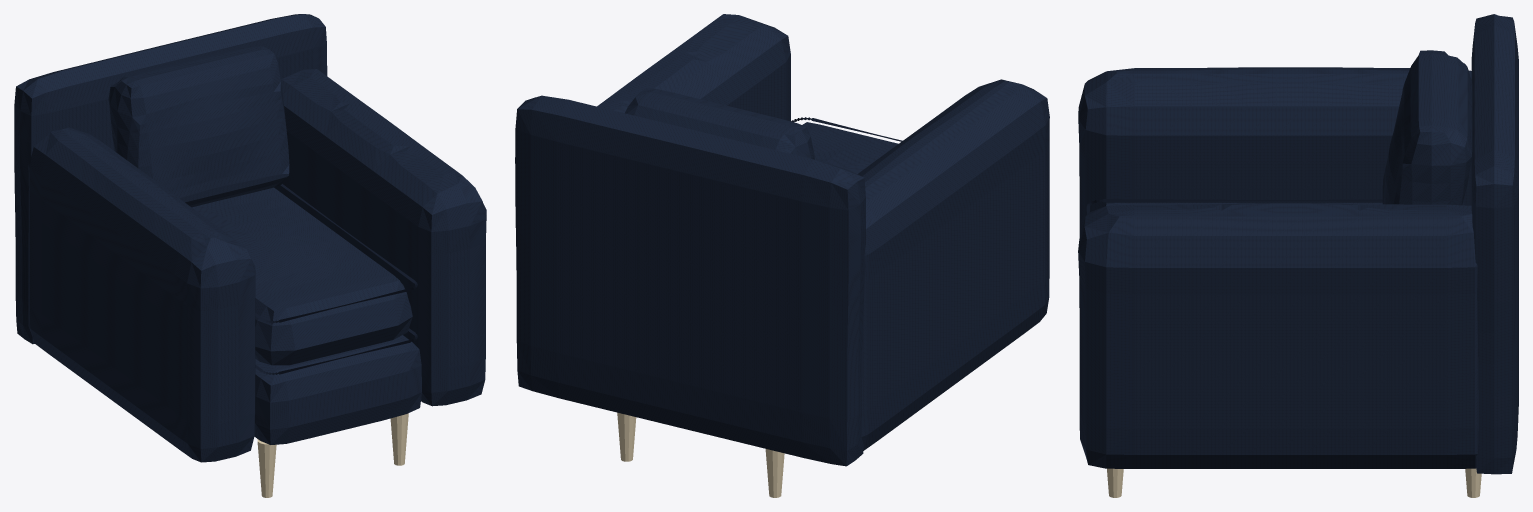
The model's file is LIT-LNG-std.glb.
3 views of the same model, side by side, from view 1: azimuth 30°, elevation 25°; view 2: azimuth 150°, elevation 25°; view 3: azimuth 270°, elevation 25° (orthographic). The views are drawn at different scales.
Visible parts, largest first — view 1: arm-pad-l:fabric:eyJwcmVzZXQiOiJ0aWNraW5nIiwid2FycCI6Im5hdnk, arm-pad-r:fabric:eyJwcmVzZXQiOiJ0aWNraW5nIiwid2FycCI6Im5hdnk, inside-back:fabric:eyJwcmVzZXQiOiJ0aWNraW5nIiwid2FycCI6Im5hd, seat:fabric:eyJwcmVzZXQiOiJ0aWNraW5nIiwid2FycCI6Im5hdnkiLCJ3, back-pad:fabric:eyJwcmVzZXQiOiJ0aWNraW5nIiwid2FycCI6Im5hdnki, deck:fabric:eyJwcmVzZXQiOiJ0aWNraW5nIiwid2FycCI6Im5hdnkiLCJ3, seat:piping:pbr, leg-fl:pbr, leg-fr:pbr; view 2: back-pad:fabric:eyJwcmVzZXQiOiJ0aWNraW5nIiwid2FycCI6Im5hdnki, arm-pad-l:fabric:eyJwcmVzZXQiOiJ0aWNraW5nIiwid2FycCI6Im5hdnk, arm-pad-r:fabric:eyJwcmVzZXQiOiJ0aWNraW5nIiwid2FycCI6Im5hdnk, inside-back:fabric:eyJwcmVzZXQiOiJ0aWNraW5nIiwid2FycCI6Im5hd, seat:fabric:eyJwcmVzZXQiOiJ0aWNraW5nIiwid2FycCI6Im5hdnkiLCJ3, leg-br:pbr, leg-bl:pbr; view 3: arm-pad-r:fabric:eyJwcmVzZXQiOiJ0aWNraW5nIiwid2FycCI6Im5hdnk, arm-pad-l:fabric:eyJwcmVzZXQiOiJ0aWNraW5nIiwid2FycCI6Im5hdnk, back-pad:fabric:eyJwcmVzZXQiOiJ0aWNraW5nIiwid2FycCI6Im5hdnki, inside-back:fabric:eyJwcmVzZXQiOiJ0aWNraW5nIiwid2FycCI6Im5hd, seat:piping:pbr.
Part boxes in pixels (box(x1,y1,x2,y2)): arm-pad-l:fabric:eyJwcmVzZXQiOiJ0aWNraW5nIiwid2FycCI6Im5hdnk: box(28, 127, 255, 462); arm-pad-r:fabric:eyJwcmVzZXQiOiJ0aWNraW5nIiwid2FycCI6Im5hdnk: box(274, 69, 486, 406); inside-back:fabric:eyJwcmVzZXQiOiJ0aWNraW5nIiwid2FycCI6Im5hd: box(108, 45, 289, 207); seat:fabric:eyJwcmVzZXQiOiJ0aWNraW5nIiwid2FycCI6Im5hdnkiLCJ3: box(192, 187, 412, 365); back-pad:fabric:eyJwcmVzZXQiOiJ0aWNraW5nIiwid2FycCI6Im5hdnki: box(14, 14, 327, 344); deck:fabric:eyJwcmVzZXQiOiJ0aWNraW5nIiwid2FycCI6Im5hdnkiLCJ3: box(254, 335, 421, 444); seat:piping:pbr: box(255, 184, 417, 374); leg-fl:pbr: box(257, 439, 276, 497); leg-fr:pbr: box(390, 413, 408, 465); back-pad:fabric:eyJwcmVzZXQiOiJ0aWNraW5nIiwid2FycCI6Im5hdnki: box(515, 95, 865, 466); arm-pad-l:fabric:eyJwcmVzZXQiOiJ0aWNraW5nIiwid2FycCI6Im5hdnk: box(857, 79, 1049, 450); arm-pad-r:fabric:eyJwcmVzZXQiOiJ0aWNraW5nIiwid2FycCI6Im5hdnk: box(597, 14, 790, 121); inside-back:fabric:eyJwcmVzZXQiOiJ0aWNraW5nIiwid2FycCI6Im5hd: box(625, 88, 814, 159); seat:fabric:eyJwcmVzZXQiOiJ0aWNraW5nIiwid2FycCI6Im5hdnkiLCJ3: box(802, 122, 898, 173); leg-br:pbr: box(617, 412, 636, 461); leg-bl:pbr: box(765, 449, 784, 497); arm-pad-r:fabric:eyJwcmVzZXQiOiJ0aWNraW5nIiwid2FycCI6Im5hdnk: box(1078, 203, 1478, 468); arm-pad-l:fabric:eyJwcmVzZXQiOiJ0aWNraW5nIiwid2FycCI6Im5hdnk: box(1078, 67, 1471, 237); back-pad:fabric:eyJwcmVzZXQiOiJ0aWNraW5nIiwid2FycCI6Im5hdnki: box(1471, 14, 1518, 474); inside-back:fabric:eyJwcmVzZXQiOiJ0aWNraW5nIiwid2FycCI6Im5hd: box(1382, 50, 1472, 205); seat:piping:pbr: box(1086, 199, 1466, 213).
Bounding box in the file's own units: 0.76 × 0.76 × 0.82.
11 materials, 6 textured.
